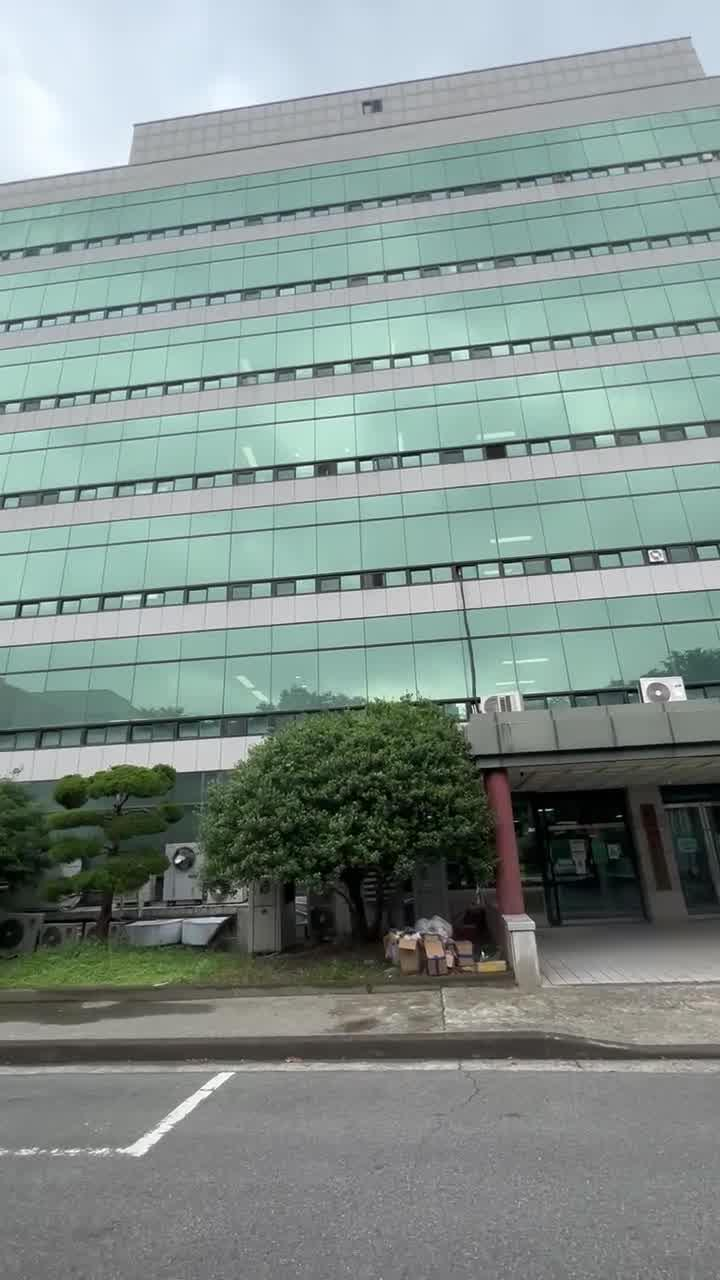building: (60, 78, 720, 688)
